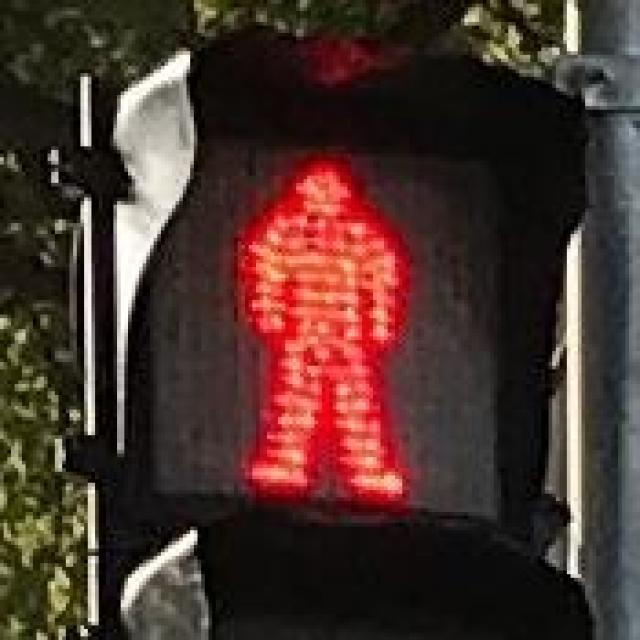red_light: (128, 102, 504, 530)
